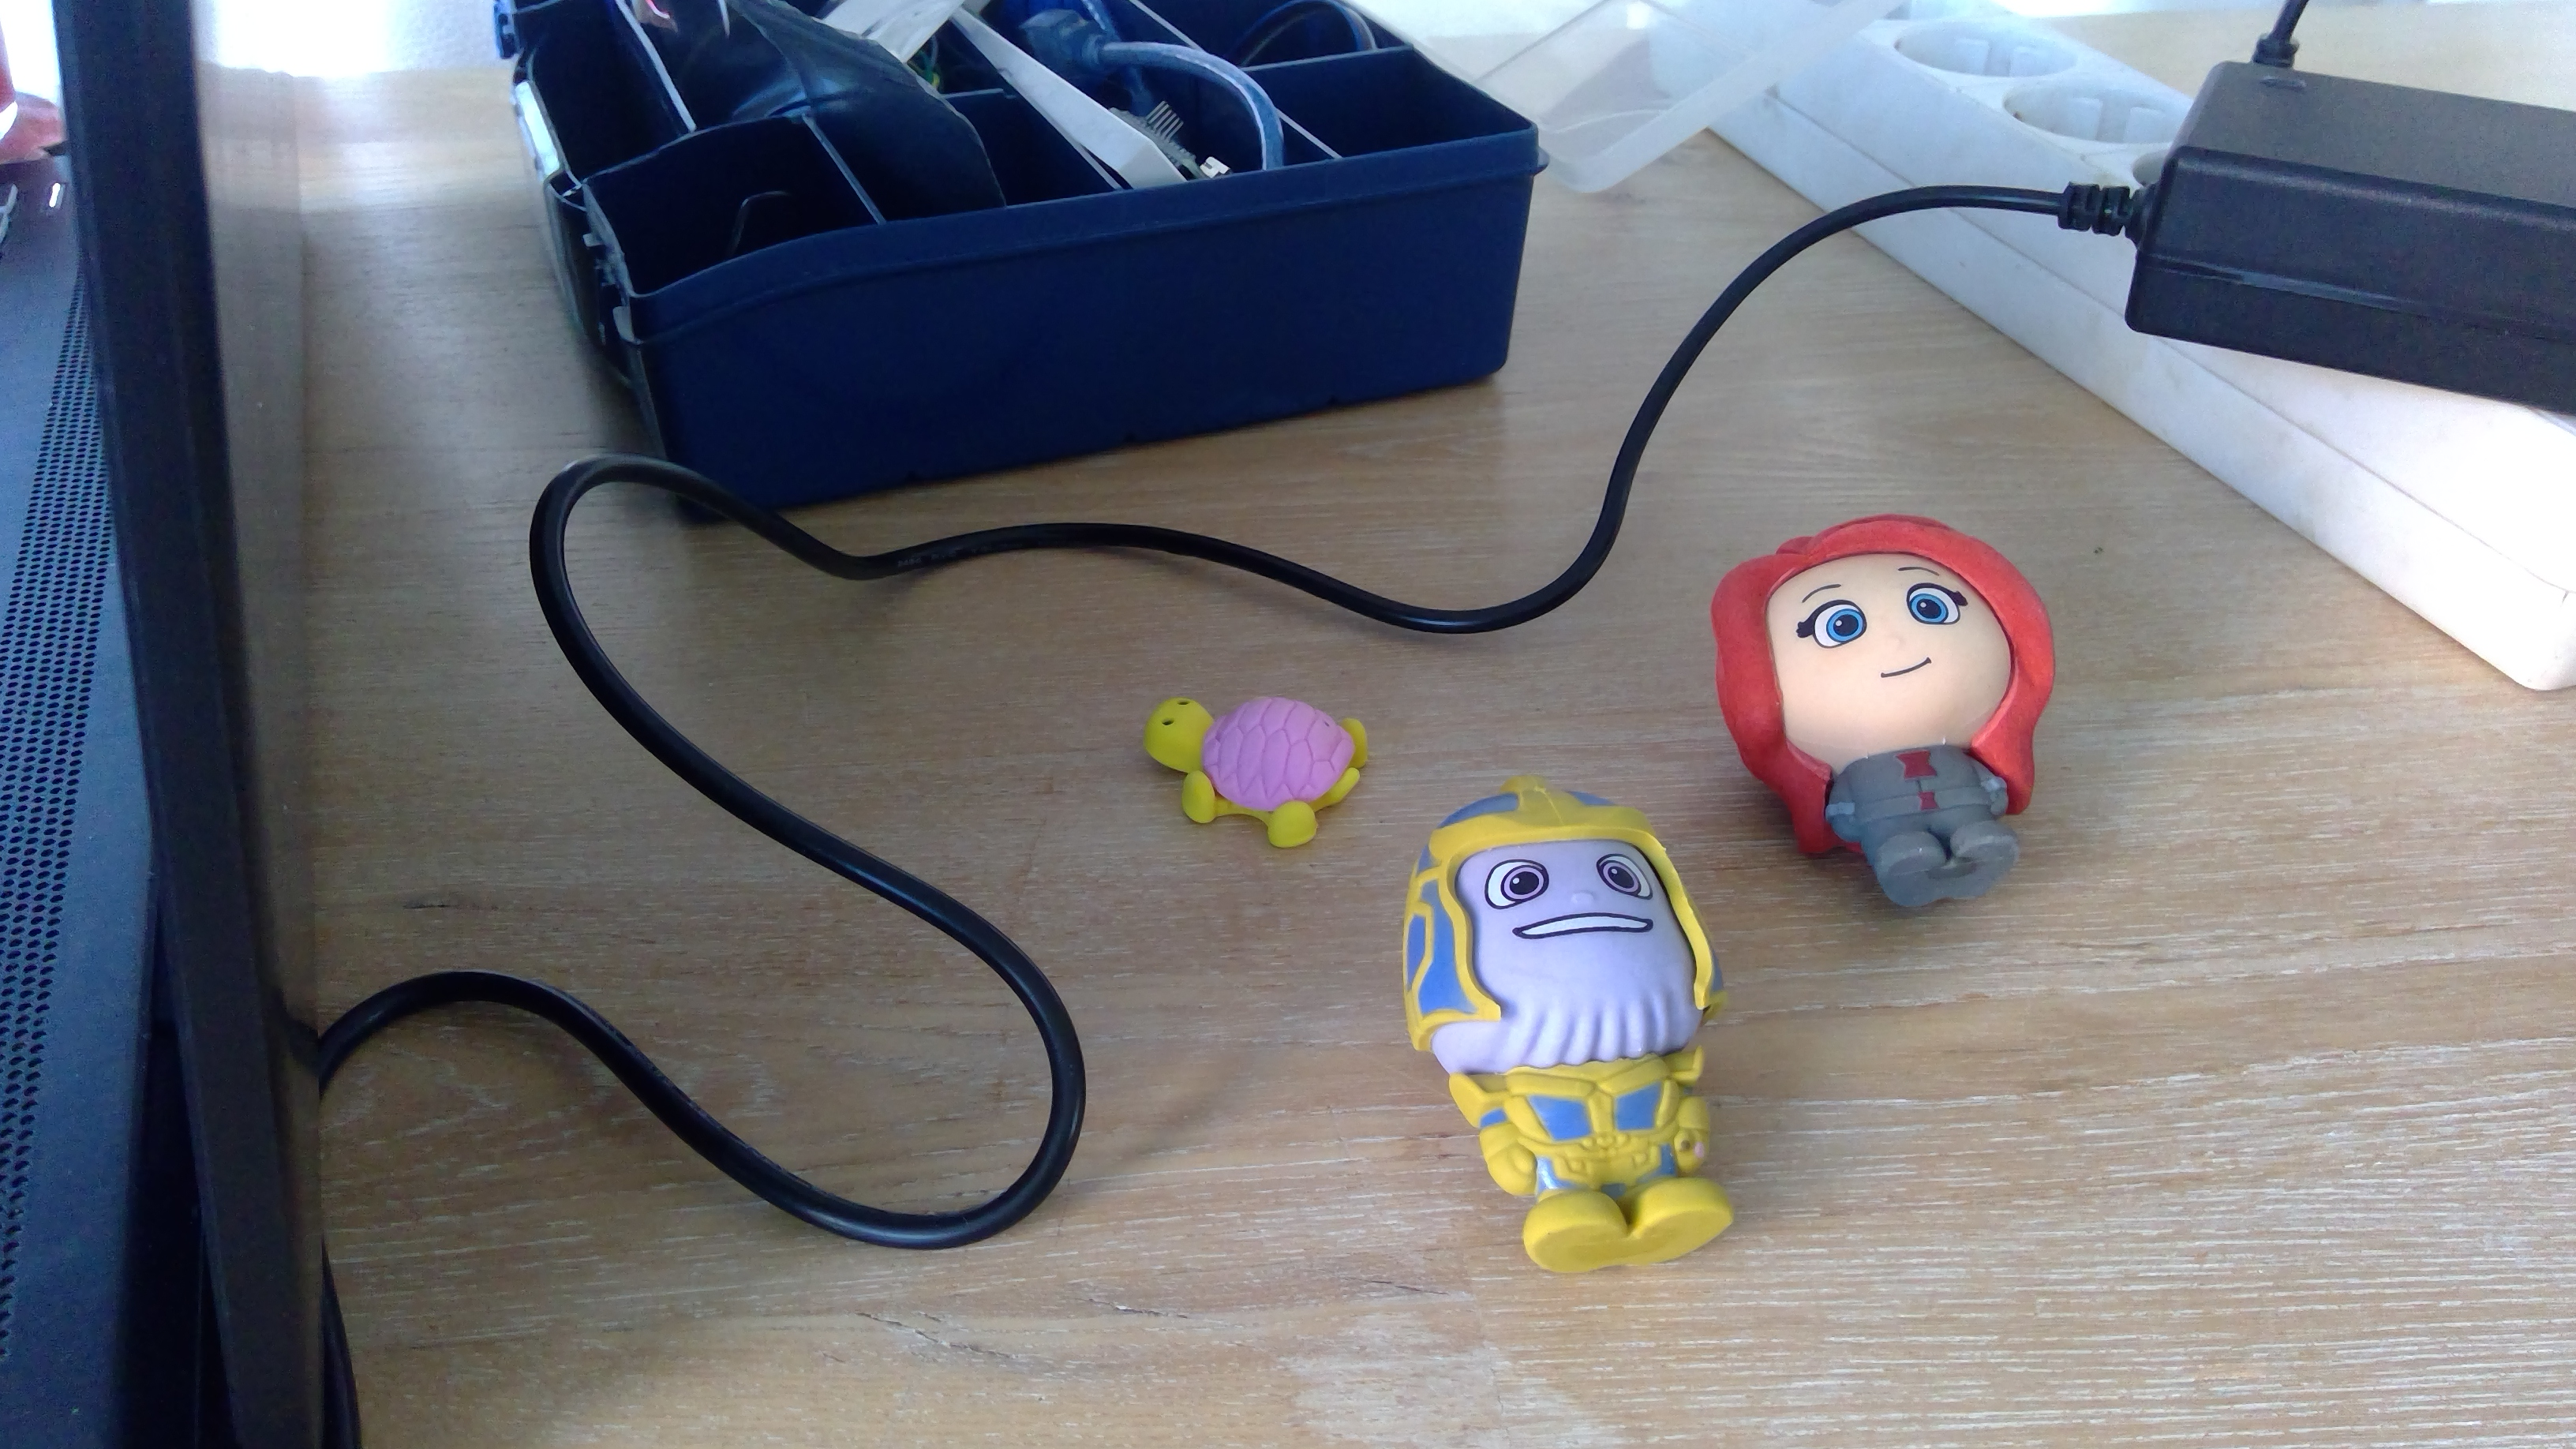schil: (1138, 685, 1366, 844)
spin: (1706, 504, 2049, 913)
thanos: (1396, 775, 1737, 1276)
